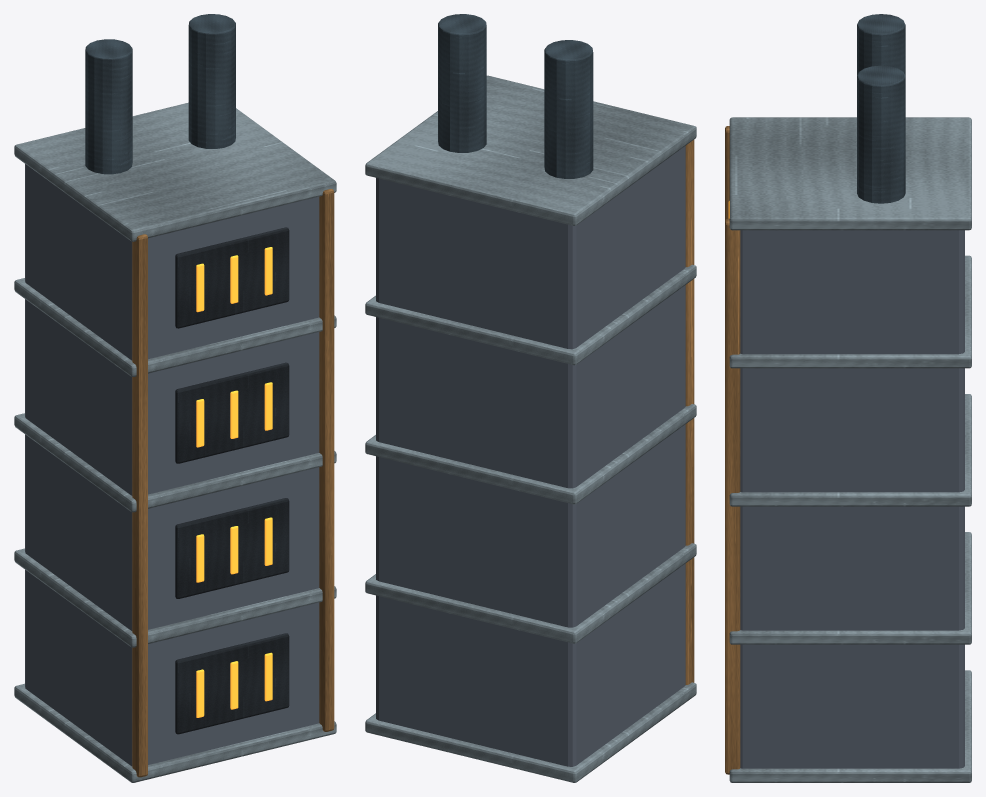
Rendered from tower.glb.
The picture shows the model from 3 angles, left to right: view 1: azimuth 30°, elevation 25°; view 2: azimuth 150°, elevation 25°; view 3: azimuth 270°, elevation 25°; orthographic projection. The views are drawn at different scales.
Parts seen in each view (by area): view 1: tower; view 2: tower; view 3: tower.
Part boxes in pixels (x1,y1,x2,y2): tower: (14,14,336,782); tower: (365,14,696,782); tower: (725,14,971,782).
Bounding box in the file's own units: 3.18 × 9.89 × 3.24.
6 materials, 4 textured.
